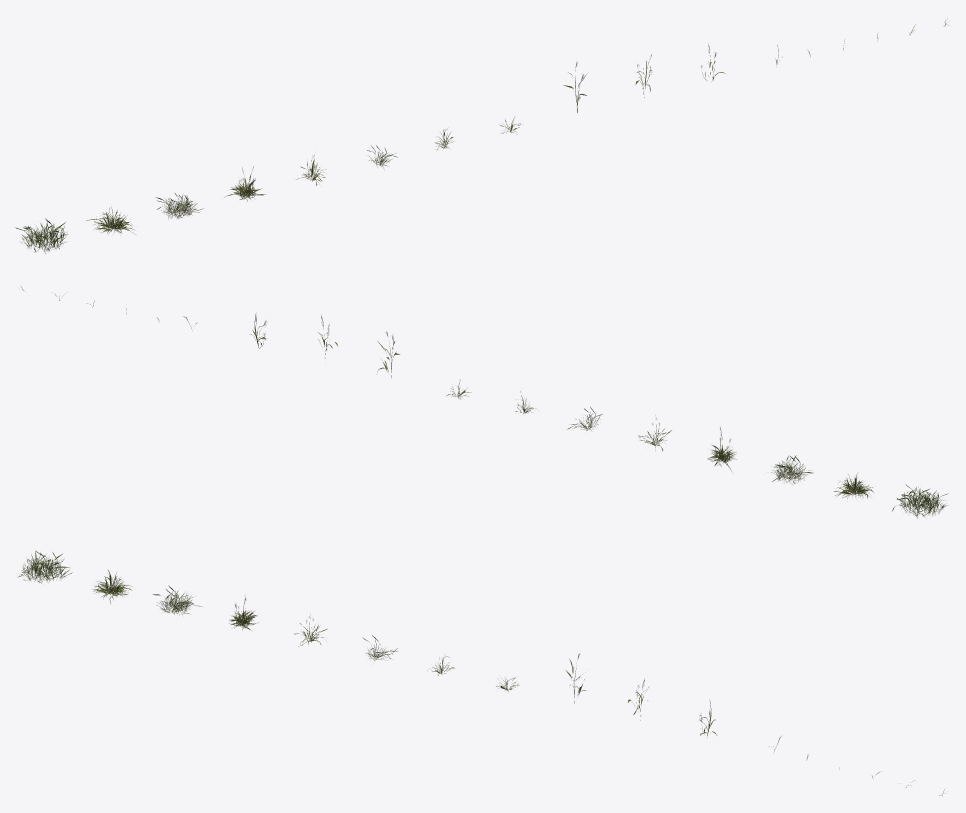
File: grass_medium_01_lod1.glb
The picture shows the model from 3 angles, top to bottom: view 1: azimuth 30°, elevation 25°; view 2: azimuth 150°, elevation 25°; view 3: azimuth 330°, elevation 25°; orthographic projection.
Visible parts, largest first — view 1: grass_medium_01_large_a_LOD0, grass_medium_01_large_c_LOD0; view 2: grass_medium_01_large_a_LOD0, grass_medium_01_large_c_LOD0; view 3: grass_medium_01_large_a_LOD0.
Part boxes in pixels (x1,y1,x2,y2): grass_medium_01_large_a_LOD0: [15, 218, 67, 253]; grass_medium_01_large_c_LOD0: [156, 193, 203, 218]; grass_medium_01_large_a_LOD0: [892, 485, 948, 518]; grass_medium_01_large_c_LOD0: [771, 455, 813, 484]; grass_medium_01_large_a_LOD0: [17, 550, 72, 583].
Bounding box in the file's own units: 5.6 × 0.3389 × 0.3266.
Materials: 1 (1 with a texture image).
